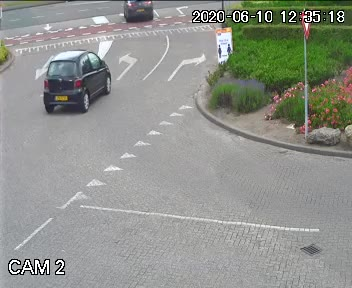car: (37, 41, 118, 116), (119, 0, 154, 26)
